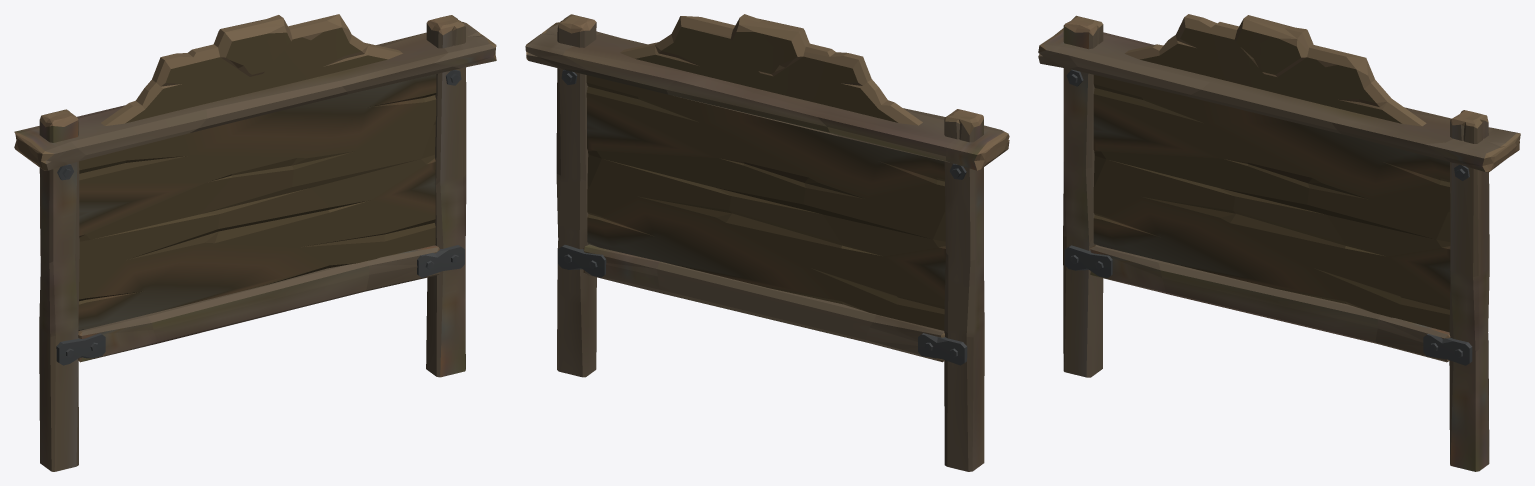
The model's file is board.glb.
3 renders of one model, left to right at view 1: azimuth 30°, elevation 25°; view 2: azimuth 150°, elevation 25°; view 3: azimuth 330°, elevation 25°, orthographic.
Parts seen in each view (by area): view 1: SM_Prop_Quest_Board_01; view 2: SM_Prop_Quest_Board_01; view 3: SM_Prop_Quest_Board_01.
Part boxes in pixels (bbox=[...]): SM_Prop_Quest_Board_01: bbox=[14, 14, 496, 471]; SM_Prop_Quest_Board_01: bbox=[525, 14, 1009, 471]; SM_Prop_Quest_Board_01: bbox=[1038, 14, 1520, 471].
Size of the model in its own units: 2.89 by 2.39 by 0.3809.
1 material, 1 textured.
